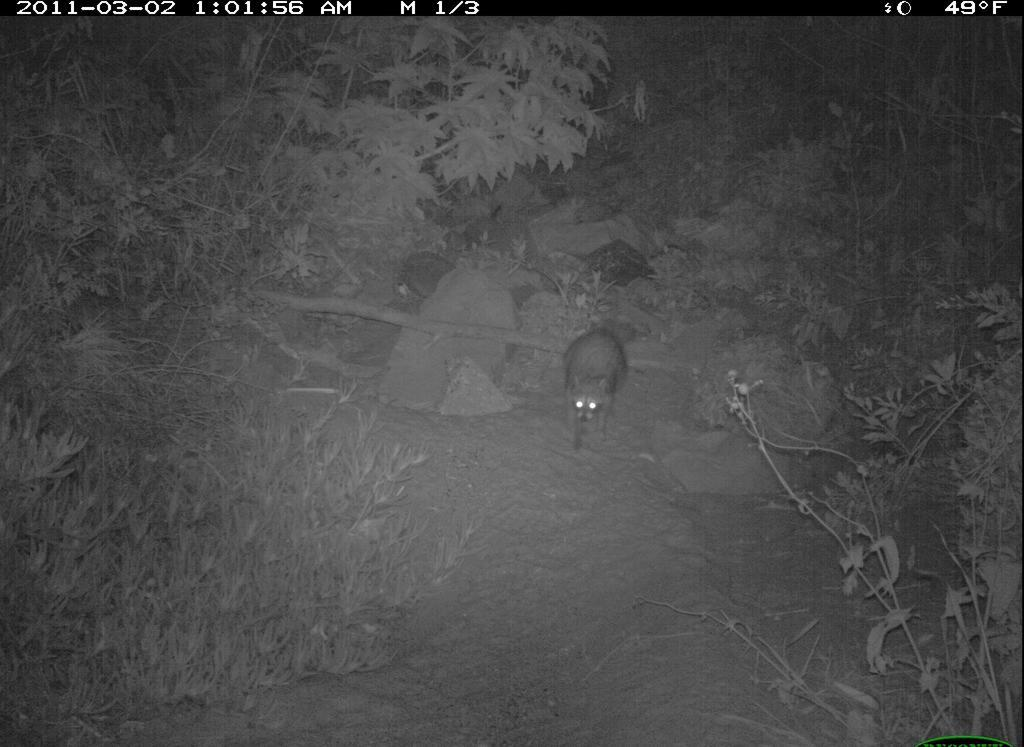raccoon: (536, 306, 644, 454)
